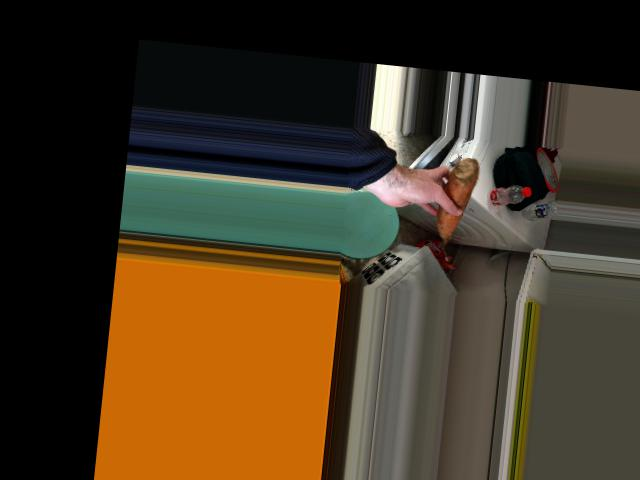sweet_potato: (439, 156, 474, 249)
